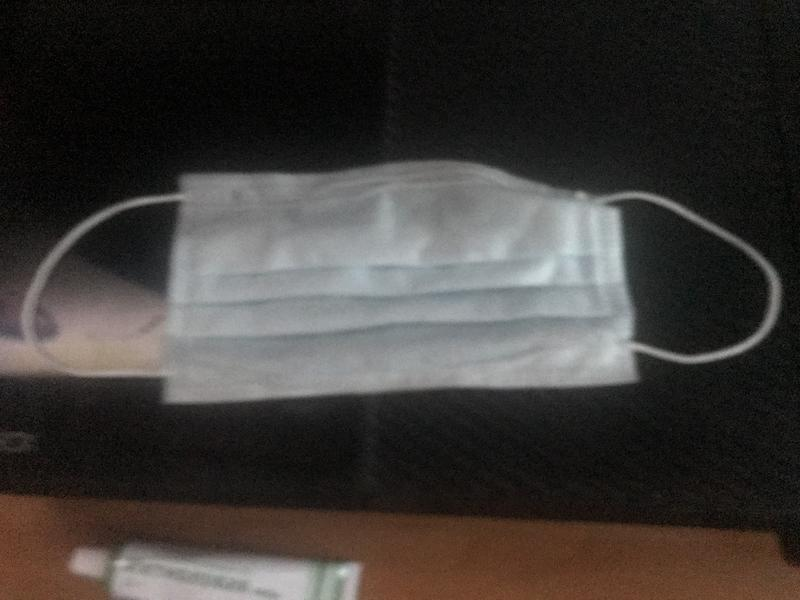medical_mask: (21, 168, 780, 398)
